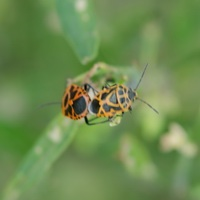insect: (61, 62, 158, 125), (82, 63, 158, 125), (62, 84, 90, 119)
